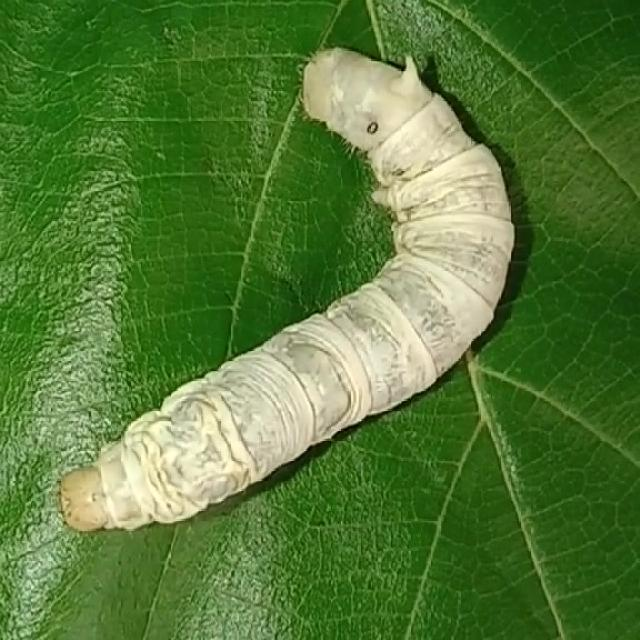Grasserie: (53, 39, 572, 540)
